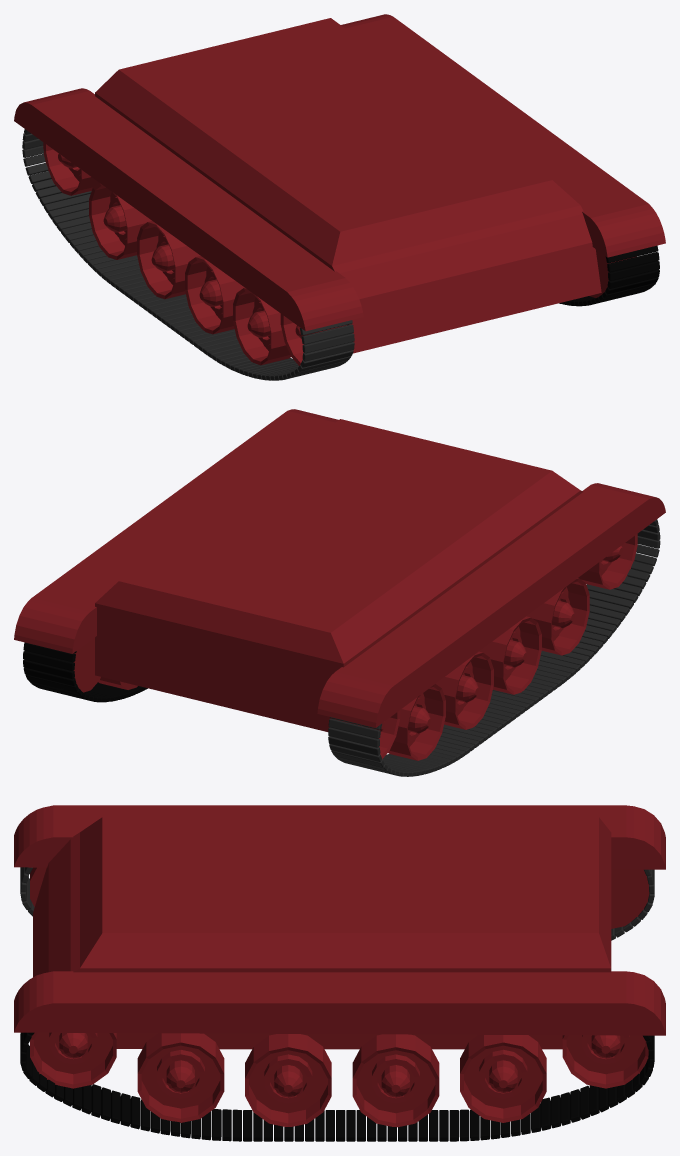
The model's file is ENEMY TANK BODY.fbx.
3 views of the same model, one above another, from view 1: azimuth 30°, elevation 25°; view 2: azimuth 150°, elevation 25°; view 3: azimuth 270°, elevation 25° (orthographic). The views are drawn at different scales.
Visible parts, largest first — view 1: Cube, Plane, Cube R, Cylinder.005, Cylinder.006, Cylinder.007, Cylinder.004, Cube L, Cylinder.003, Cylinder.008; view 2: Cube, Plane, Cube R, Cylinder.004, Cylinder.006, Cylinder.005, Cube L, Cylinder.007, Cylinder.003, Cylinder.008; view 3: Cube, Plane, Cube L, Cylinder.005, Cylinder.006, Cylinder.007, Cylinder.004, Cylinder.003, Cylinder.008, Cube R.
Boxes of the visible parts, x1,y1,x2,y2 form: Cube: (95,18,601,353); Plane: (14,14,665,331); Cube R: (22,129,354,380); Cylinder.005: (137,221,200,299); Cylinder.006: (185,256,244,334); Cylinder.007: (233,288,291,365); Cylinder.004: (89,183,151,259); Cube L: (559,245,659,306); Cylinder.003: (43,142,99,195); Cylinder.008: (280,249,636,365); Cube: (95,419,583,731); Plane: (14,409,665,727); Cube R: (328,519,660,776); Cylinder.004: (98,677,445,760); Cylinder.006: (479,616,541,694); Cylinder.005: (436,651,493,729); Cube L: (23,642,147,702); Cylinder.007: (527,578,589,655); Cylinder.003: (73,637,400,759); Cylinder.008: (578,534,637,589); Cube: (33,817,611,1049); Plane: (14,805,665,1035); Cube L: (20,1032,654,1141); Cylinder.005: (352,1034,439,1127); Cylinder.006: (245,1034,331,1126); Cylinder.007: (137,1033,224,1122); Cylinder.004: (460,1035,546,1122); Cylinder.003: (562,869,649,1088); Cylinder.008: (30,867,116,1088); Cube R: (20,867,654,940).
Size of the model in its own units: 436 by 174 by 607.
